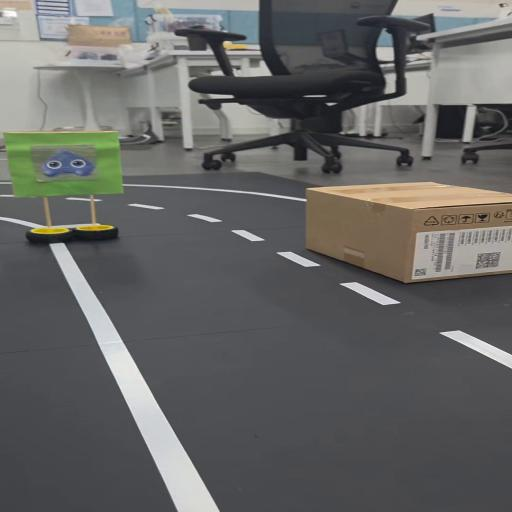Box: (294, 172, 512, 286)
Sign_B: (3, 126, 141, 256)
